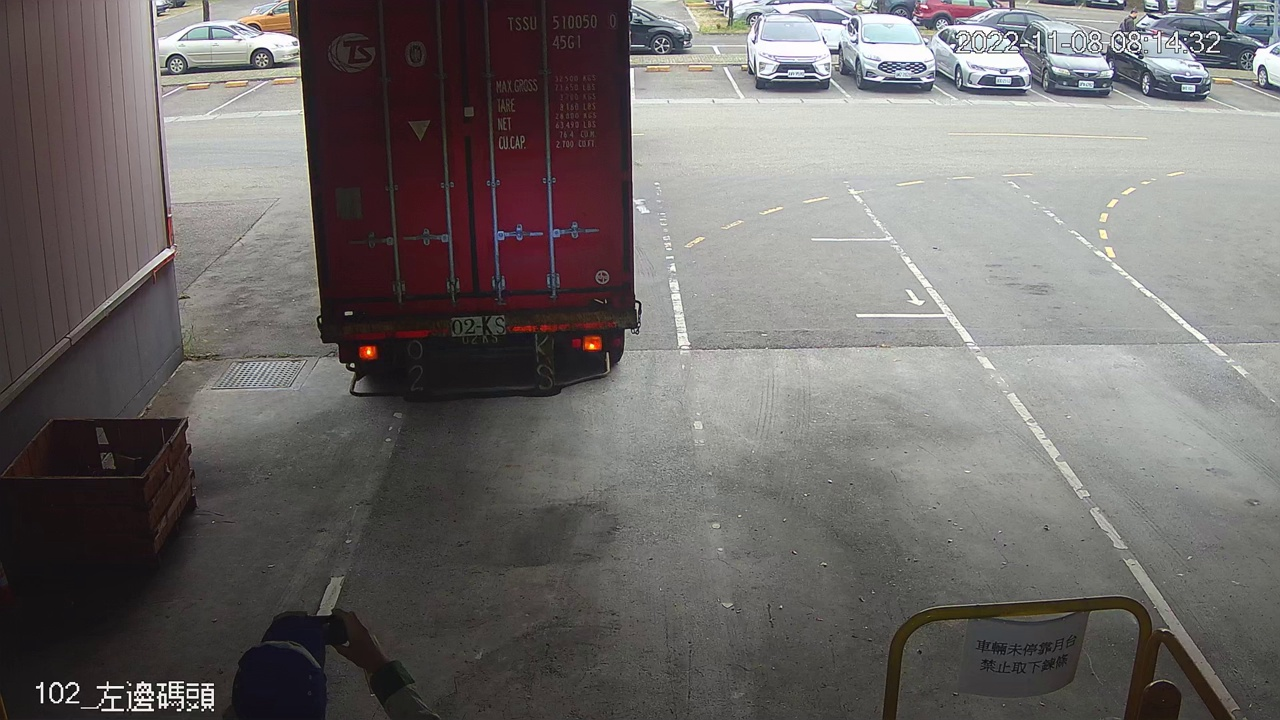container: (498, 6, 621, 53)
